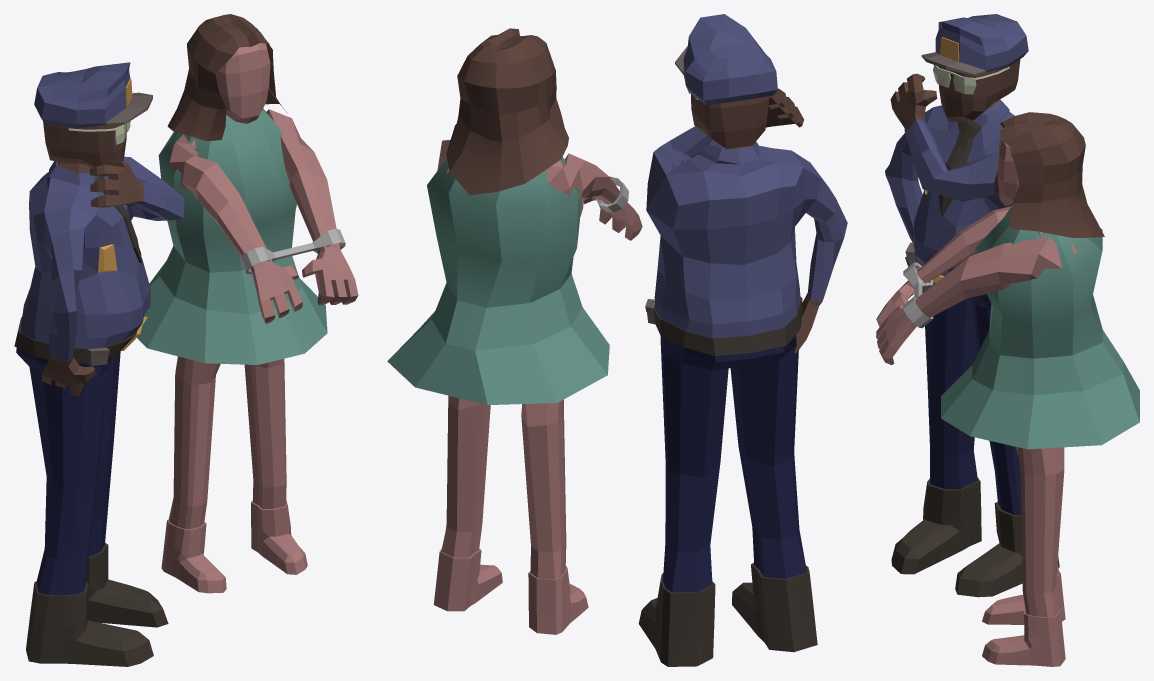
The model's file is arrested_fan.fbx.
3 renders of one model, left to right at view 1: azimuth 30°, elevation 25°; view 2: azimuth 150°, elevation 25°; view 3: azimuth 270°, elevation 25°, orthographic. The views are drawn at different scales.
Parts seen in each view (by area): view 1: Fan_1, Character_John, pCylinder1; view 2: Character_John, Fan_1; view 3: Fan_1, Character_John, pCylinder1.
Boxes of the visible parts, <box> form: Fan_1: <box>137,14,358,593</box>; Character_John: <box>14,62,184,666</box>; pCylinder1: <box>240,229,345,274</box>; Character_John: <box>638,14,847,666</box>; Fan_1: <box>387,28,642,634</box>; Fan_1: <box>876,112,1139,666</box>; Character_John: <box>885,14,1059,597</box>; pCylinder1: <box>903,262,933,328</box>.
Size of the model in its own units: 90.42 by 146 by 63.54.
